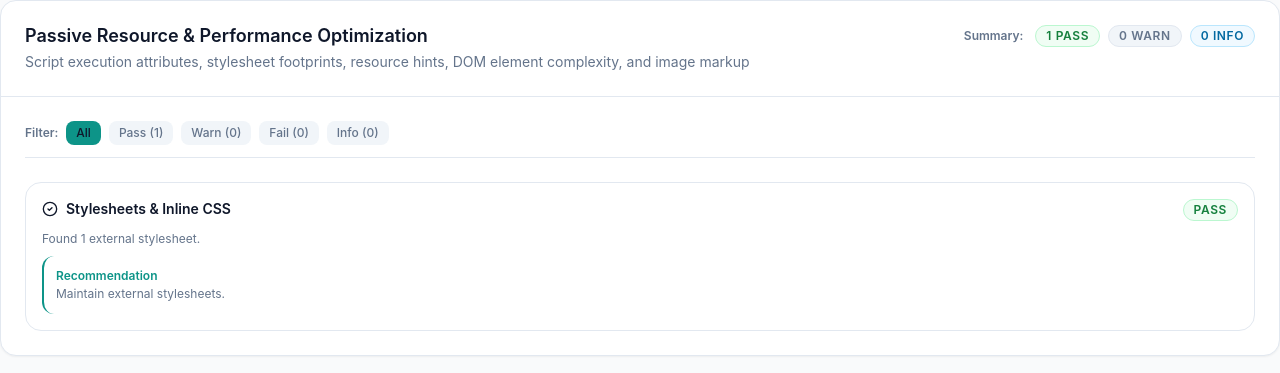
PerformanceCard Component Suite (M5) › renders empty state message when no findings match selected filter tab
Click the button "warn (0)".
click(216, 132)  # box [181,120,251,144]
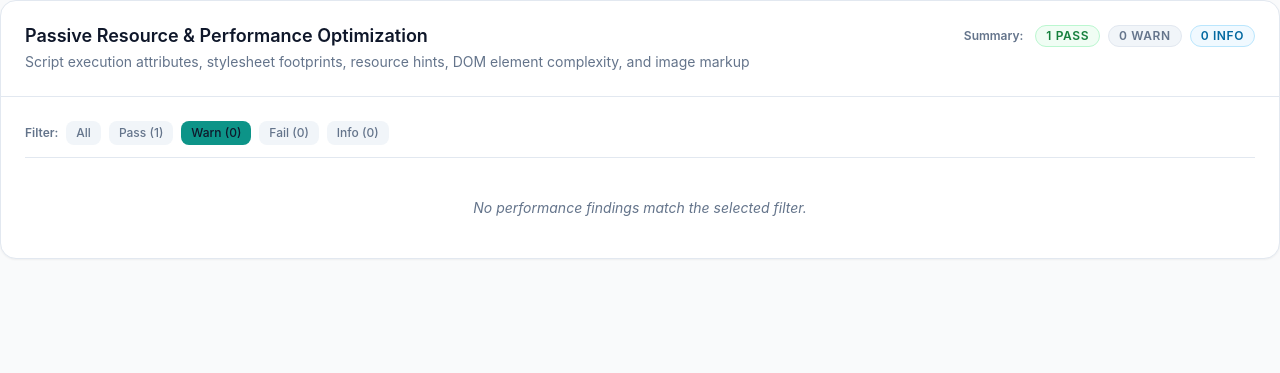
Result: the text "No performance findings match the selected filter." is shown at [473,198,807,216]
